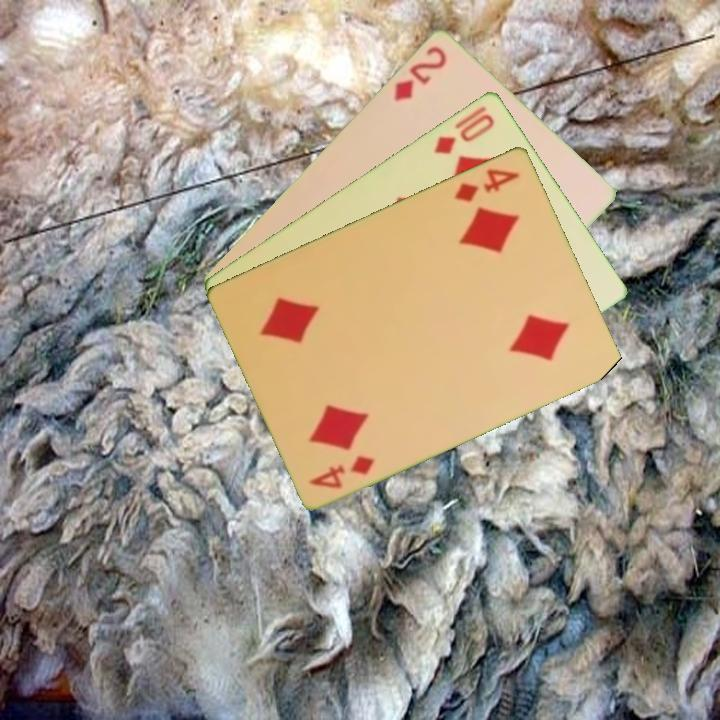10d: (430, 101, 498, 157)
2d: (390, 42, 449, 104)
4d: (450, 164, 523, 205), (306, 451, 378, 491)
